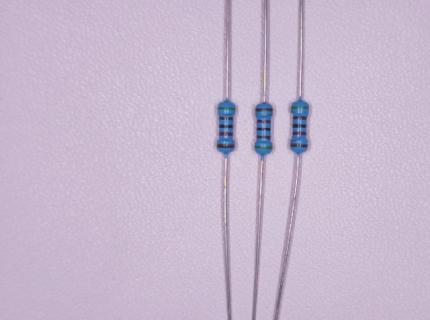Black band: (257, 127, 271, 131), (293, 124, 306, 128), (219, 125, 233, 128)
Brown band: (290, 143, 308, 148), (217, 143, 234, 148), (219, 117, 233, 121), (293, 116, 307, 120), (257, 135, 270, 139), (256, 108, 273, 111)
Green band: (291, 106, 309, 110), (218, 107, 235, 110), (255, 146, 272, 149)
Red band: (219, 132, 233, 136), (292, 131, 306, 135), (257, 120, 270, 123)
